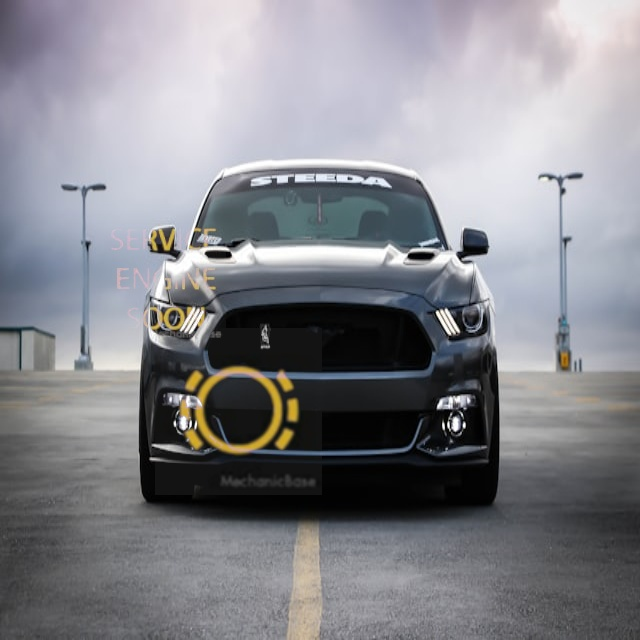symbol: (155, 328, 322, 495), (99, 217, 226, 344)
